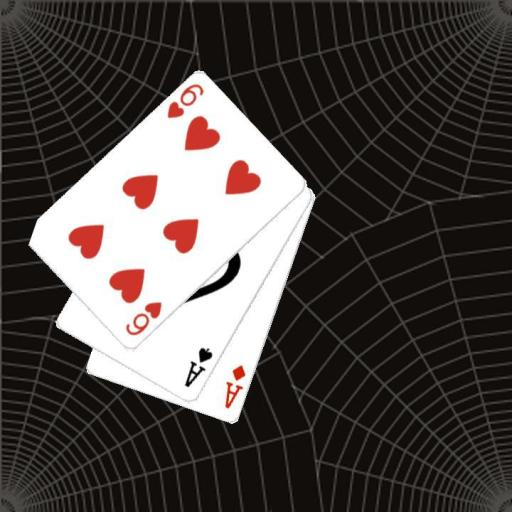6H: (164, 81, 206, 121), (123, 299, 164, 338)
AD: (221, 362, 248, 410)
AS: (181, 344, 215, 390)
